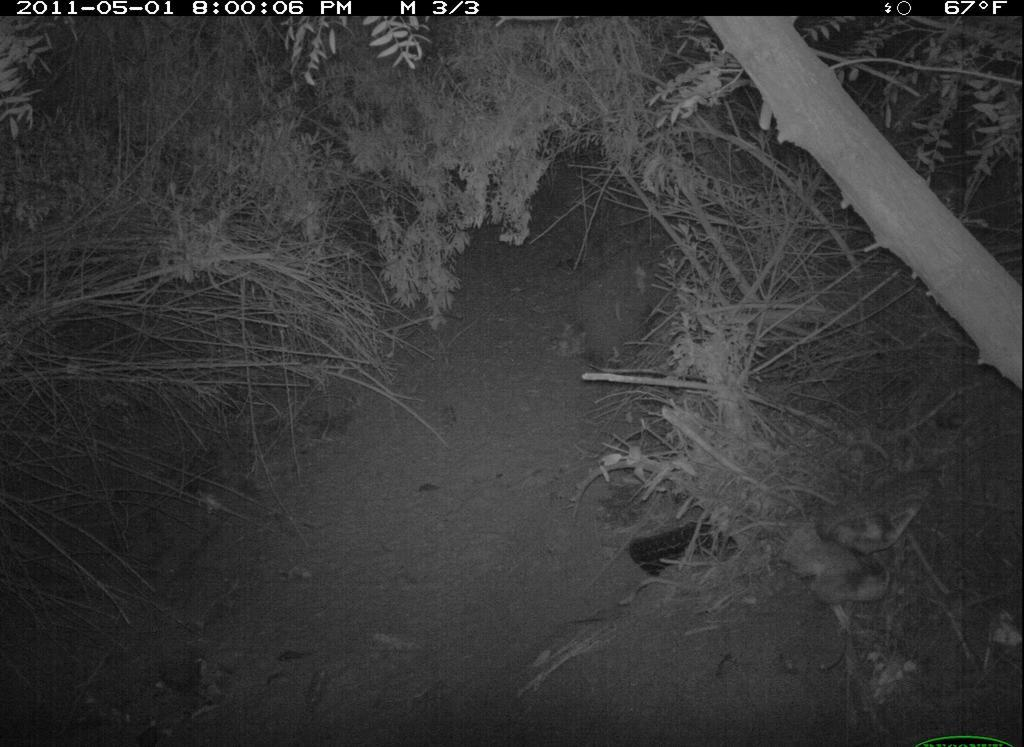bird: (812, 469, 937, 557), (786, 543, 898, 629)
